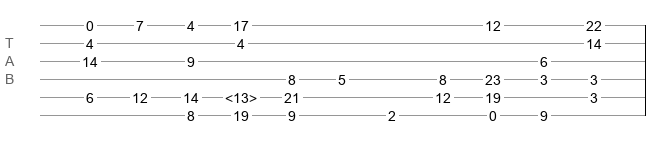0: (86, 18, 94, 28), (489, 108, 497, 118)
12: (132, 90, 148, 100), (435, 90, 451, 100), (485, 18, 501, 28)
14: (82, 54, 98, 64), (183, 90, 199, 100), (586, 36, 602, 46)
17: (233, 18, 249, 28)
19: (233, 108, 249, 118), (485, 90, 501, 100)
2: (388, 108, 396, 118)
21: (284, 90, 300, 100)
22: (586, 18, 602, 28)
23: (485, 72, 501, 82)
3: (540, 72, 548, 82), (590, 90, 598, 100), (590, 72, 598, 82)
4: (86, 36, 94, 46), (187, 18, 195, 28), (237, 36, 245, 46)
5: (338, 72, 346, 82)
6: (86, 90, 94, 100), (540, 54, 548, 64)
7: (136, 18, 144, 28)
8: (187, 108, 195, 118), (288, 72, 296, 82), (439, 72, 447, 82)
9: (187, 54, 195, 64), (288, 108, 296, 118), (540, 108, 548, 118)
harmonic: (225, 90, 257, 100)
